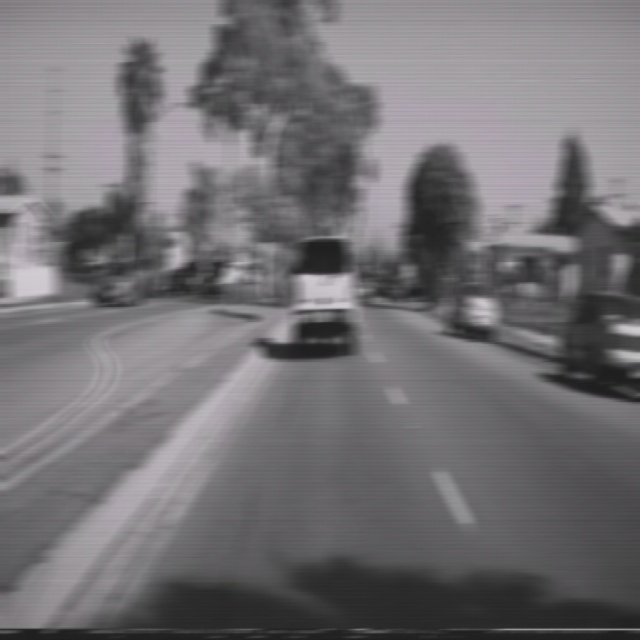speedLimit35: (484, 212, 498, 245)
